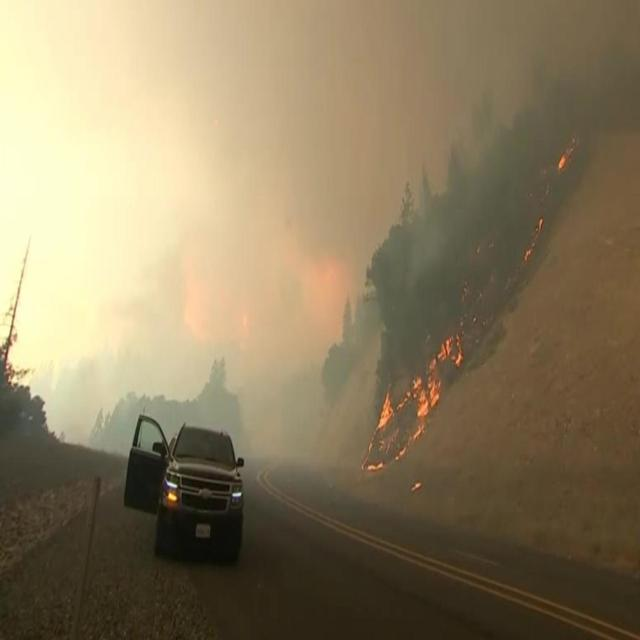Fire: (364, 329, 466, 485), (520, 210, 544, 269), (556, 140, 574, 180)
